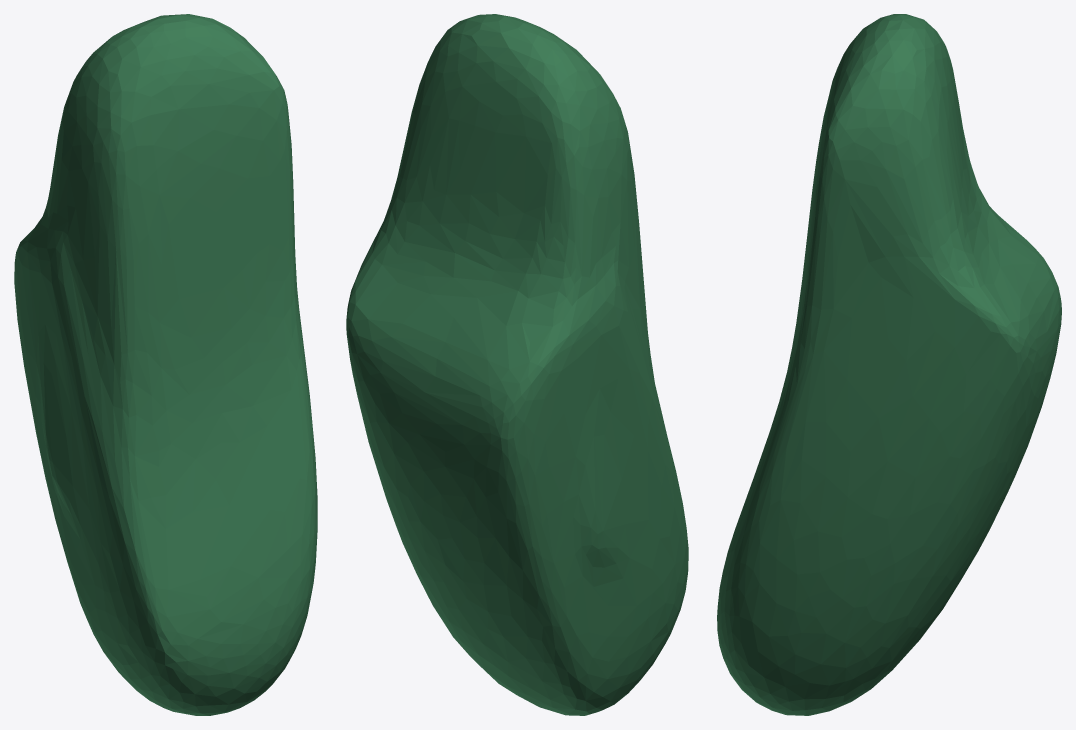
3 renders of one model, left to right at view 1: azimuth 30°, elevation 25°; view 2: azimuth 150°, elevation 25°; view 3: azimuth 270°, elevation 25°, orthographic. The views are drawn at different scales.
Visible parts, largest first — view 1: 391_Cube.1591; view 2: 391_Cube.1591; view 3: 391_Cube.1591.
Boxes of the visible parts, bbox=[...] form: 391_Cube.1591: bbox=[14, 14, 317, 715]; 391_Cube.1591: bbox=[346, 14, 688, 715]; 391_Cube.1591: bbox=[717, 14, 1061, 715].
Bounding box in the file's own units: 5.44 × 16.04 × 7.29.
